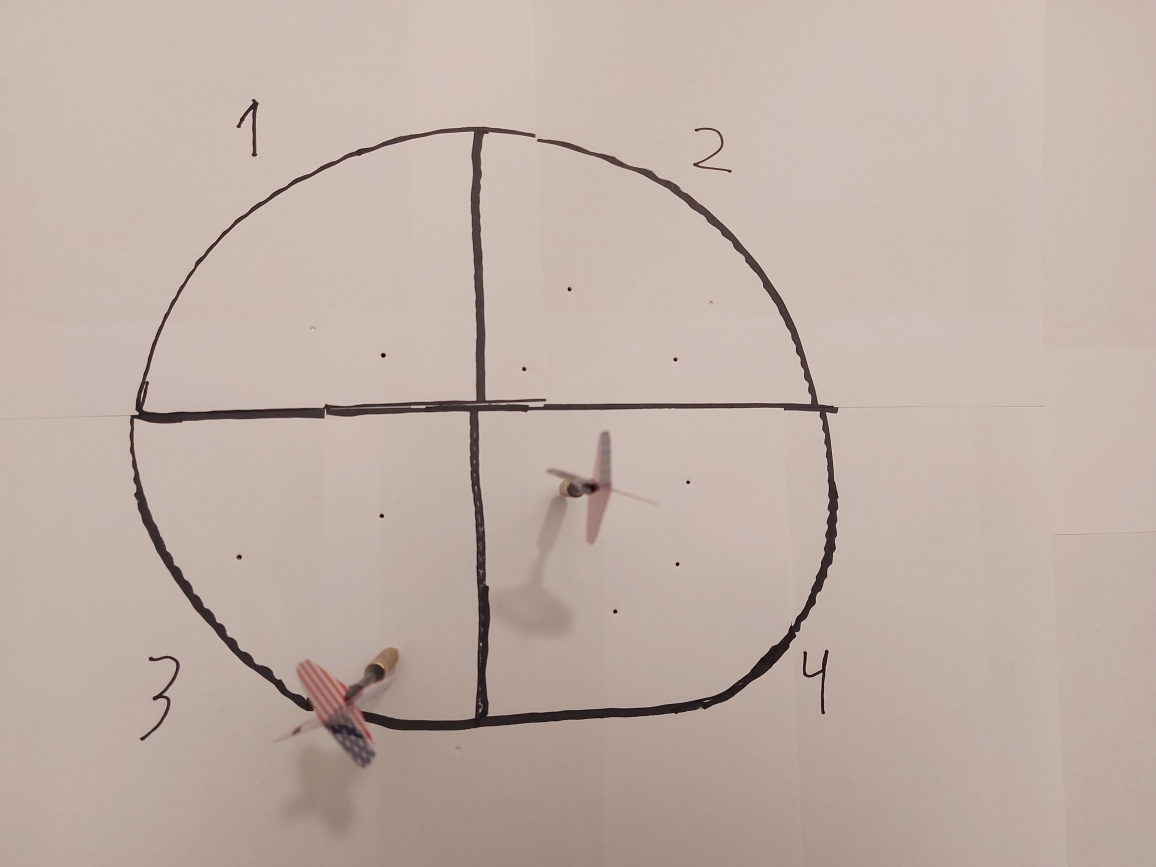Dart: (262, 634, 418, 779), (534, 419, 665, 554)
